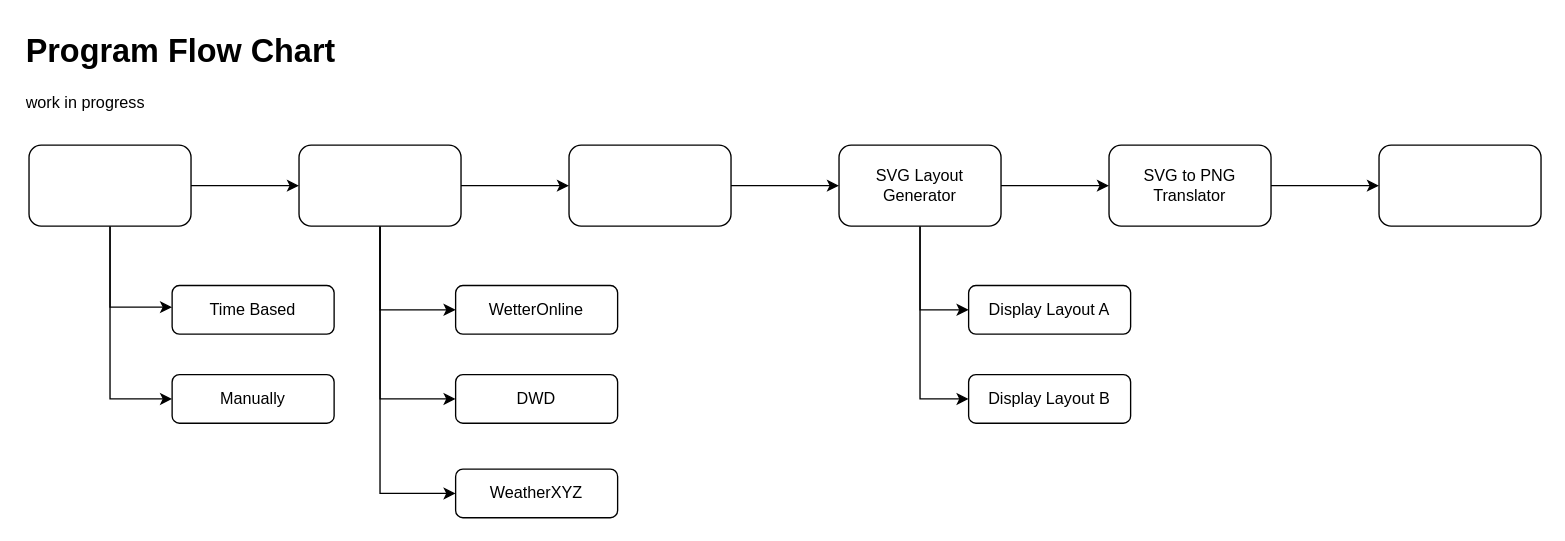
The diagram is 1565 pixels wide and 541 high, and some of its shapes have lost their labels. Each missing label, with the centre of its shape:
Location Selector: the point at 649,185
Send to Display: the point at 1459,185
Trigger: the point at 109,185
Weather Fetcher: the point at 379,185
